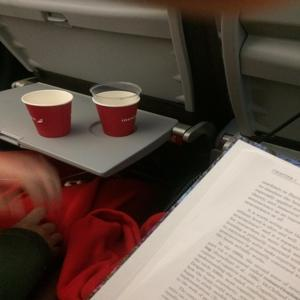cardboard: (22, 86, 73, 138), (95, 102, 147, 136)
plastic: (91, 81, 142, 103)
